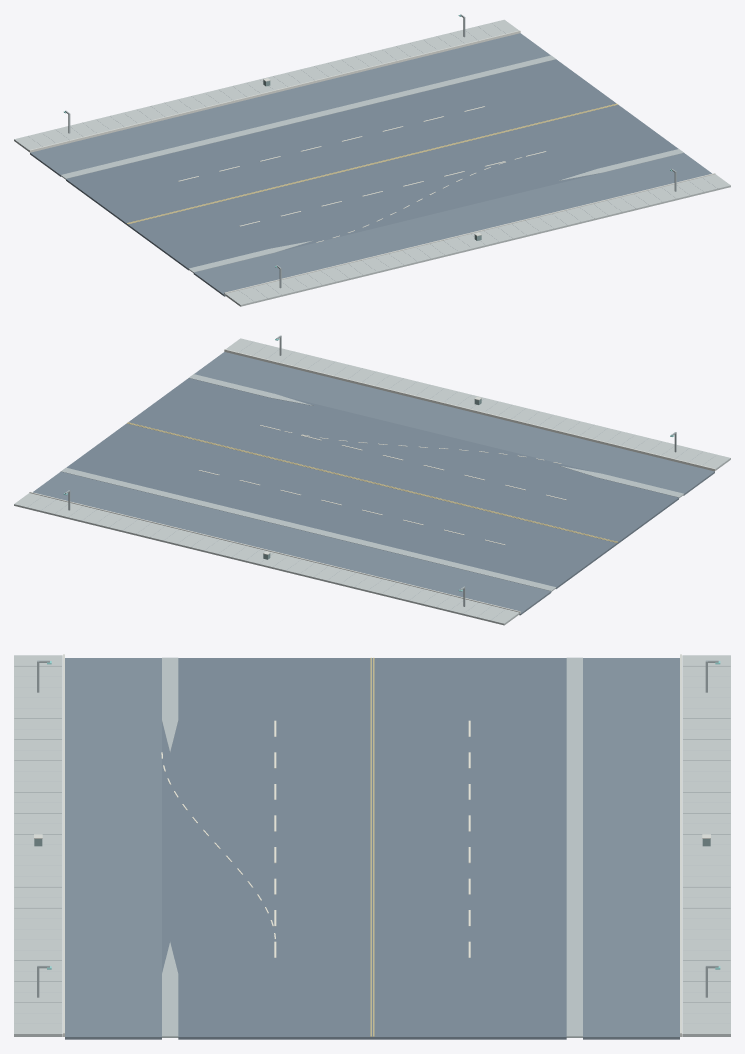
File: city-w78-s39.glb
The picture shows the model from 3 angles, top to bottom: view 1: azimuth 30°, elevation 25°; view 2: azimuth 150°, elevation 25°; view 3: azimuth 270°, elevation 25°; orthographic projection. The views are drawn at different scales.
Visible parts, largest first — view 1: Main_road, Frontage_roads, Sidewalk, Medians, Curbs, Merge_surface, Paving_joints, Center_lines, Lane_markings; view 2: Main_road, Frontage_roads, Sidewalk, Medians, Curbs, Merge_surface, Paving_joints, Center_lines, Lane_markings; view 3: Main_road, Frontage_roads, Sidewalk, Medians, Merge_surface, Paving_joints, Curbs, Center_lines, Lane_markings.
Part boxes in pixels (x1,y1,x2,y2): Main_road: (66,59,678,270); Frontage_roads: (30,33,711,296); Sidewalk: (14,19,730,306); Medians: (60,55,683,272); Curbs: (29,30,715,294); Merge_surface: (277,170,599,251); Paving_joints: (14,23,717,304); Center_lines: (127,103,617,224); Lane_markings: (178,106,546,226); Main_road: (66,378,678,588); Frontage_roads: (33,352,714,615); Sidewalk: (14,338,730,625); Medians: (61,374,684,591); Curbs: (29,349,715,613); Merge_surface: (274,396,595,477); Paving_joints: (27,342,730,623); Center_lines: (127,422,617,542); Lane_markings: (198,425,566,545); Main_road: (178,658,566,1039); Frontage_roads: (65,658,679,1039); Sidewalk: (14,655,730,1036); Medians: (162,657,582,1037); Merge_surface: (162,721,178,972); Paving_joints: (14,655,730,1023); Curbs: (63,654,681,1036); Center_lines: (370,657,374,1036); Lane_markings: (274,720,470,957).
Bounding box in the file's own units: 72 × 3.26 × 57.6.
